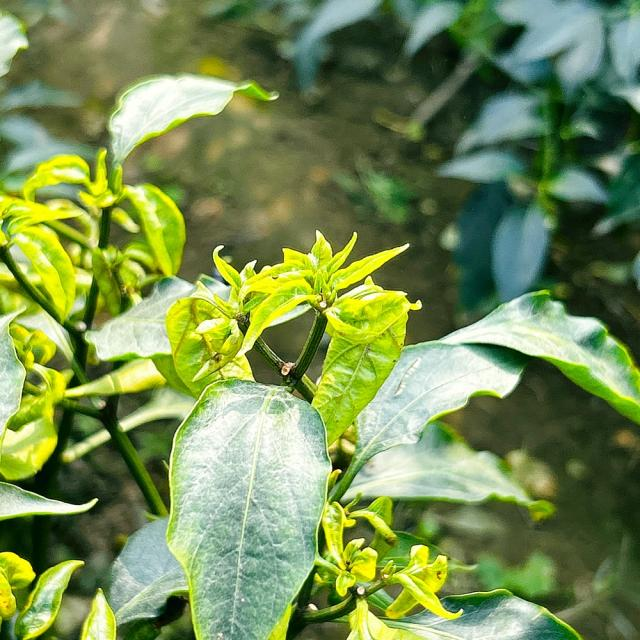Chilli_Leaf_Curl: (0, 70, 638, 638), (330, 288, 638, 514), (165, 228, 422, 447), (165, 377, 332, 638), (105, 70, 280, 169)
